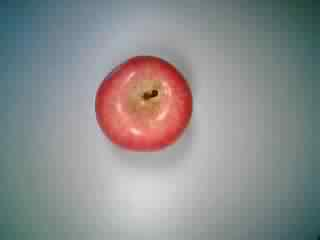apple: (91, 51, 196, 153)
